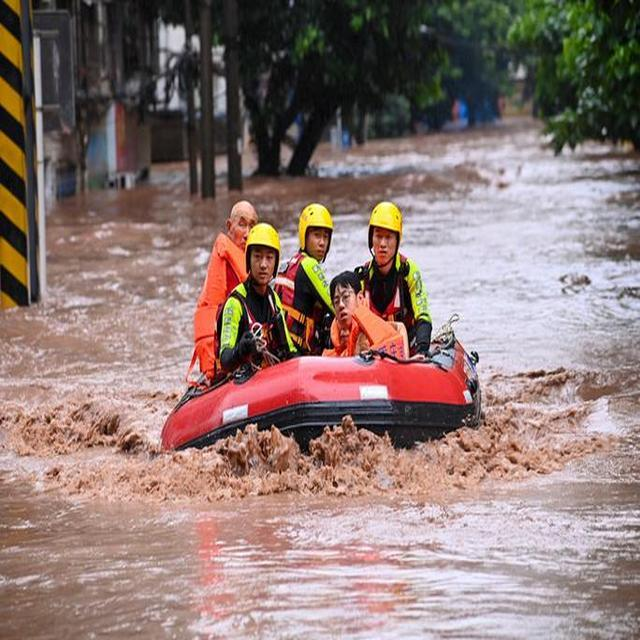Person-RiskLevel3: (184, 195, 441, 365)
